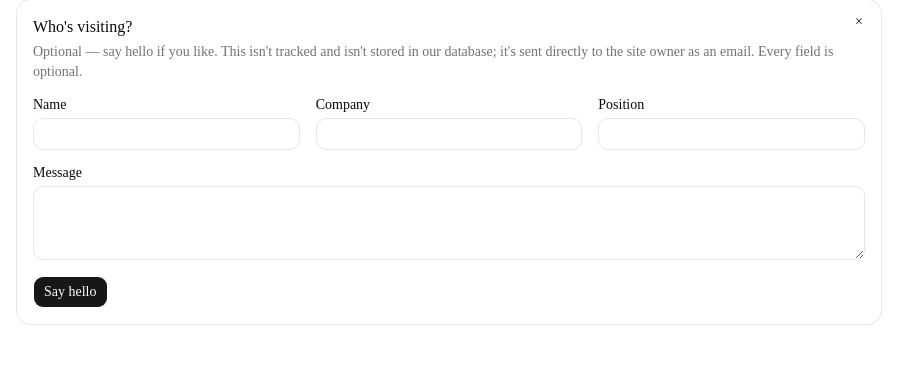
VisitorCard › shows an honest error (not a fake success) when the send fails
Type "hi" into the text box labelled "Message" at x=449, y=223, box [33,186,865,260]
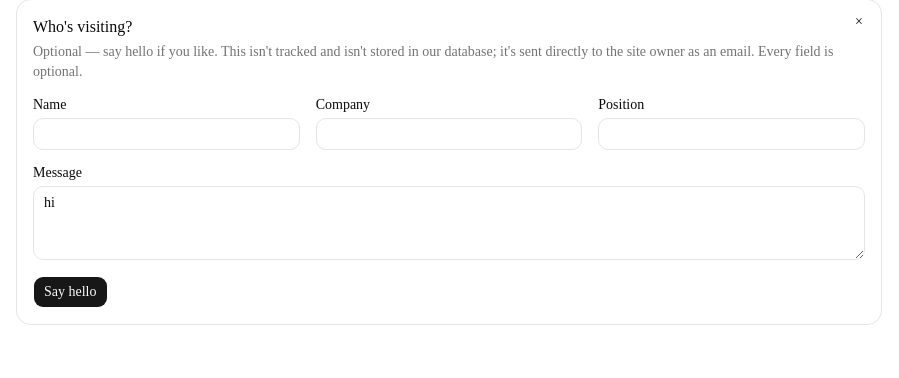
Click the button "Say hello" at x=70, y=292, box [33,276,108,308]
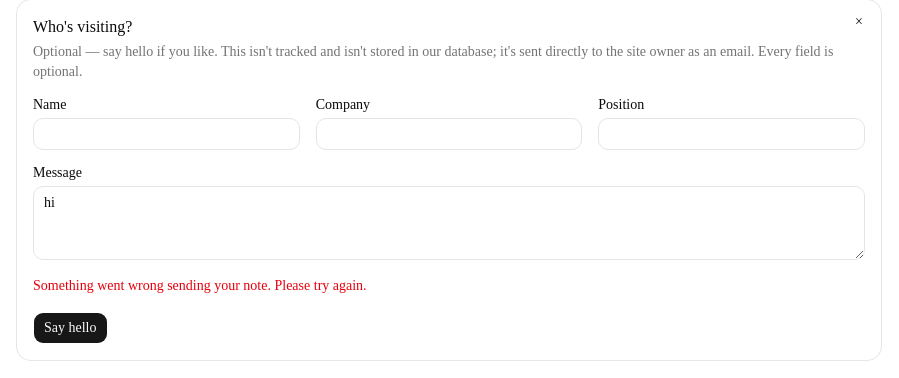
Check: the text "Something went wrong sending your note. Please try again." is shown, box [33,278,367,293]
